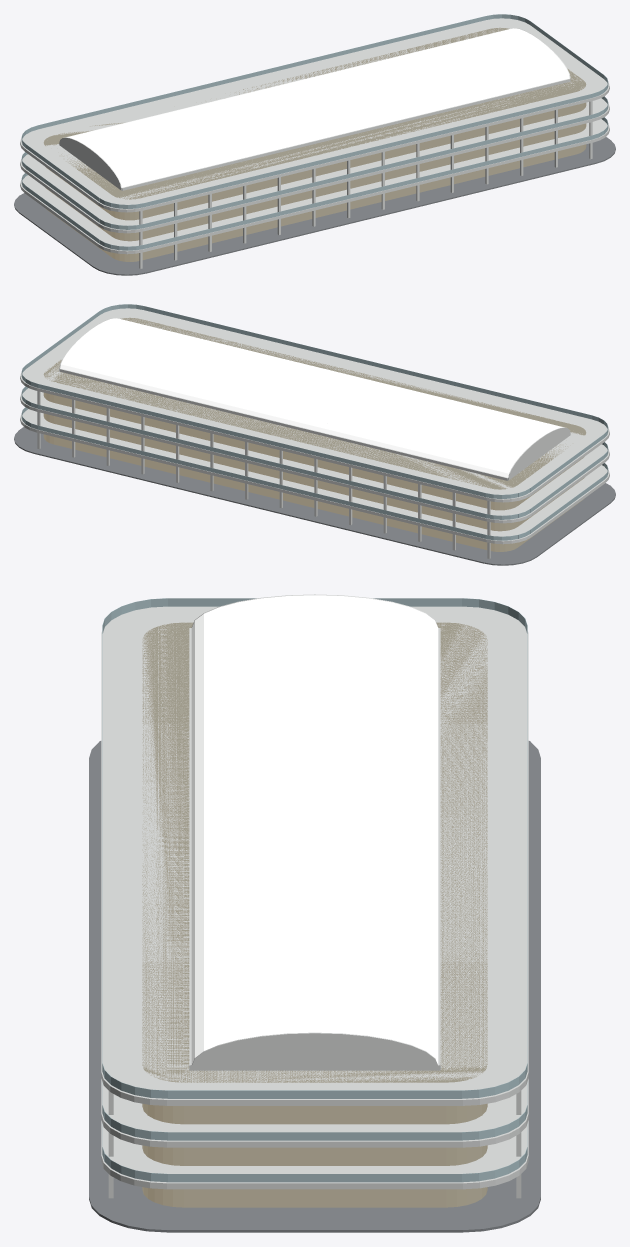
File: spo_hospitality.glb
3 renders of one model, top to bottom at view 1: azimuth 30°, elevation 25°; view 2: azimuth 150°, elevation 25°; view 3: azimuth 270°, elevation 25°, orthographic. The views are drawn at different scales.
Parts seen in each view (by area): view 1: sao-paulo-hospitality-center; view 2: sao-paulo-hospitality-center; view 3: sao-paulo-hospitality-center.
Boxes of the visible parts, x1,y1,x2,y2 form: sao-paulo-hospitality-center: (14,14,615,275); sao-paulo-hospitality-center: (14,304,615,565); sao-paulo-hospitality-center: (89,594,540,1232).
Size of the model in its own units: 146 by 22.3 by 55.
